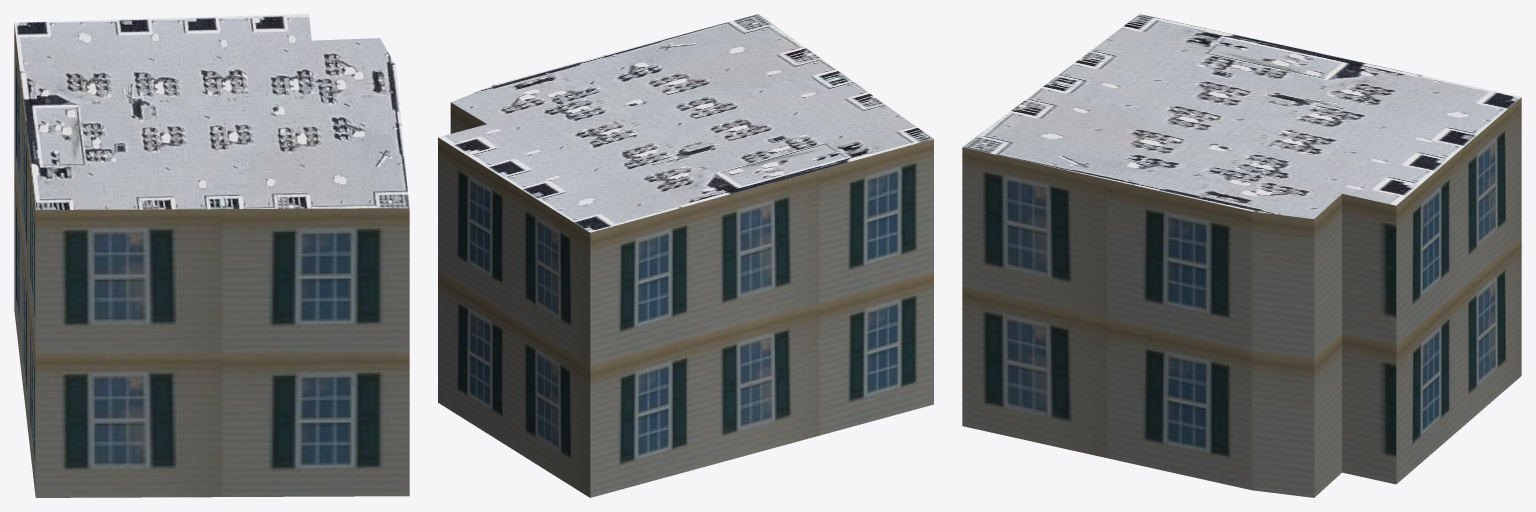
File: ResTex__2552.fbx
3 renders of one model, left to right at view 1: azimuth 30°, elevation 25°; view 2: azimuth 150°, elevation 25°; view 3: azimuth 270°, elevation 25°, orthographic. The views are drawn at different scales.
Parts seen in each view (by area): view 1: CityEngineMaterial_7_m, CityEngineMaterial_8_m; view 2: CityEngineMaterial_7_m, CityEngineMaterial_8_m; view 3: CityEngineMaterial_7_m, CityEngineMaterial_8_m.
Part boxes in pixels (x1,y1,x2,y2): CityEngineMaterial_7_m: (14, 24, 409, 497); CityEngineMaterial_8_m: (14, 14, 409, 209); CityEngineMaterial_7_m: (438, 102, 933, 497); CityEngineMaterial_8_m: (438, 14, 933, 232); CityEngineMaterial_7_m: (962, 97, 1521, 497); CityEngineMaterial_8_m: (963, 14, 1521, 218).
Size of the model in its own units: 9.47 by 6 by 10.91.
Materials: 2 (2 with a texture image).
